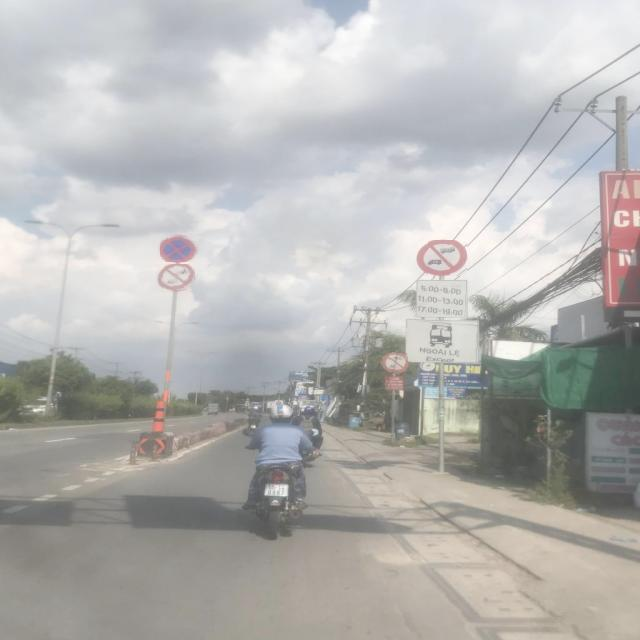cam_cac_loai_xe_3_banh: (381, 353, 408, 374)
cam_dung_xe_va_do_xe: (160, 235, 198, 262)
cam_o_to_tai_va_xe_khach: (416, 240, 467, 278)
cam_xe_2_banh_va_xe_3_banh_co_dong_co: (158, 264, 195, 292)
khac: (406, 320, 479, 362), (417, 281, 468, 317)
